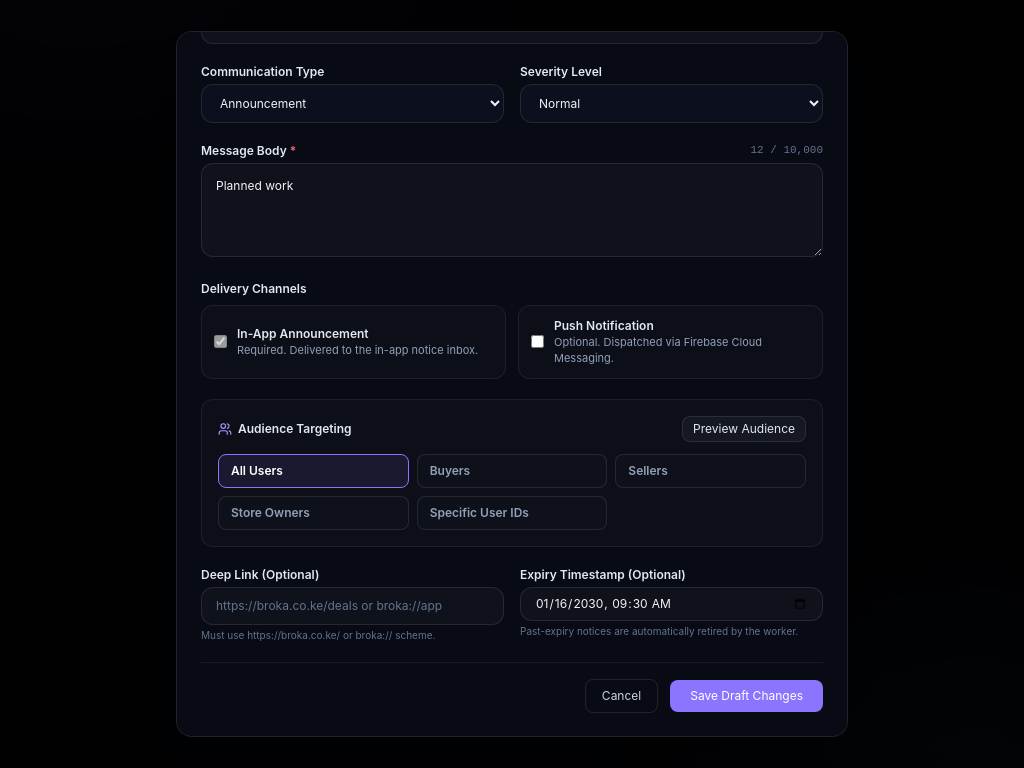
Test: communication draft submission › reports a version conflict without claiming the draft was saved
(page scrolled)
Click the button "Save Draft Changes".
click(747, 696)  # box [670, 680, 823, 712]
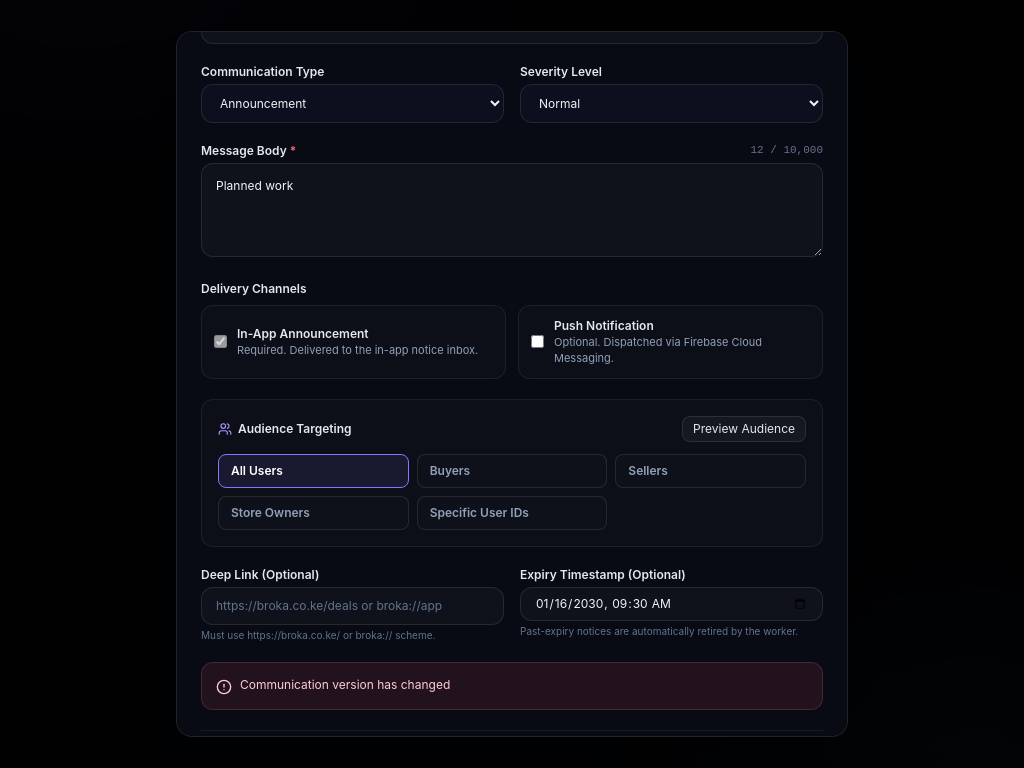
Check: the text "Communication version has changed" is shown, box [240, 677, 450, 693]
